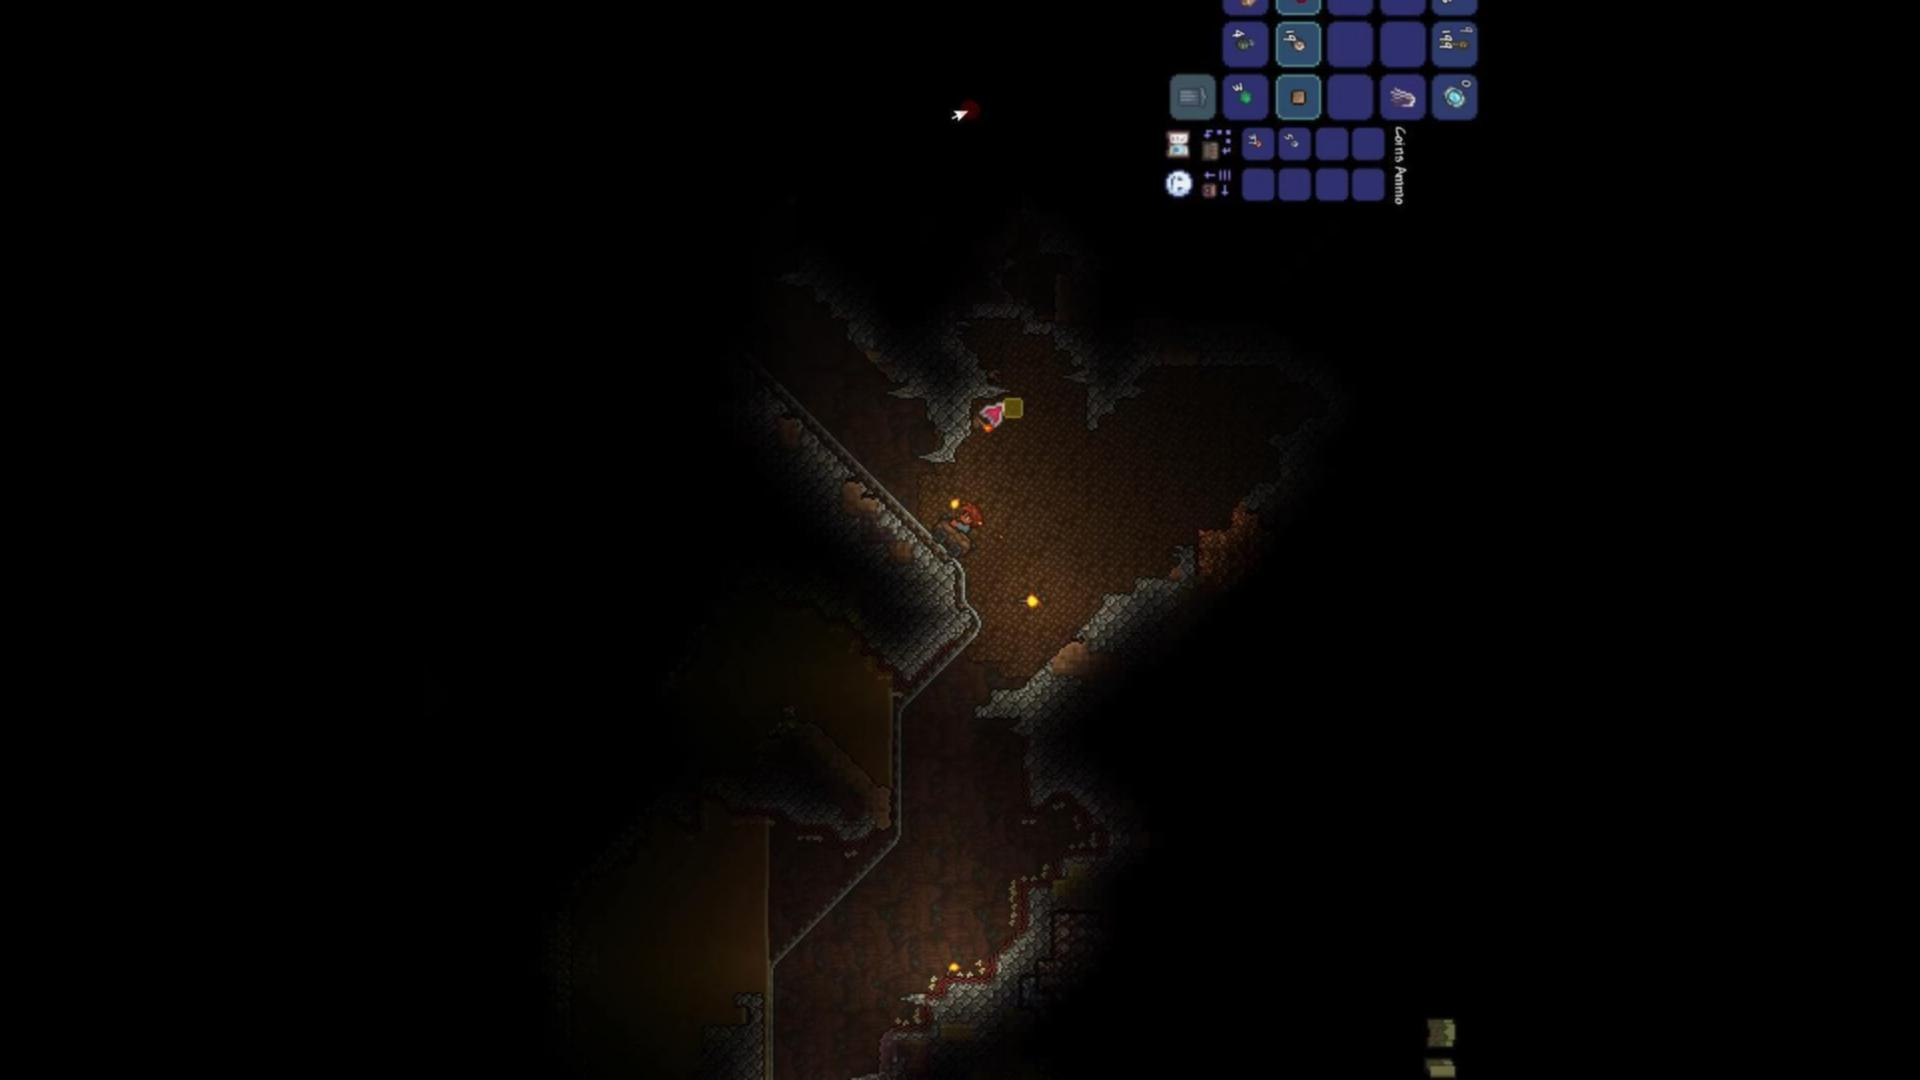lifeC: (1267, 0, 1325, 25)
